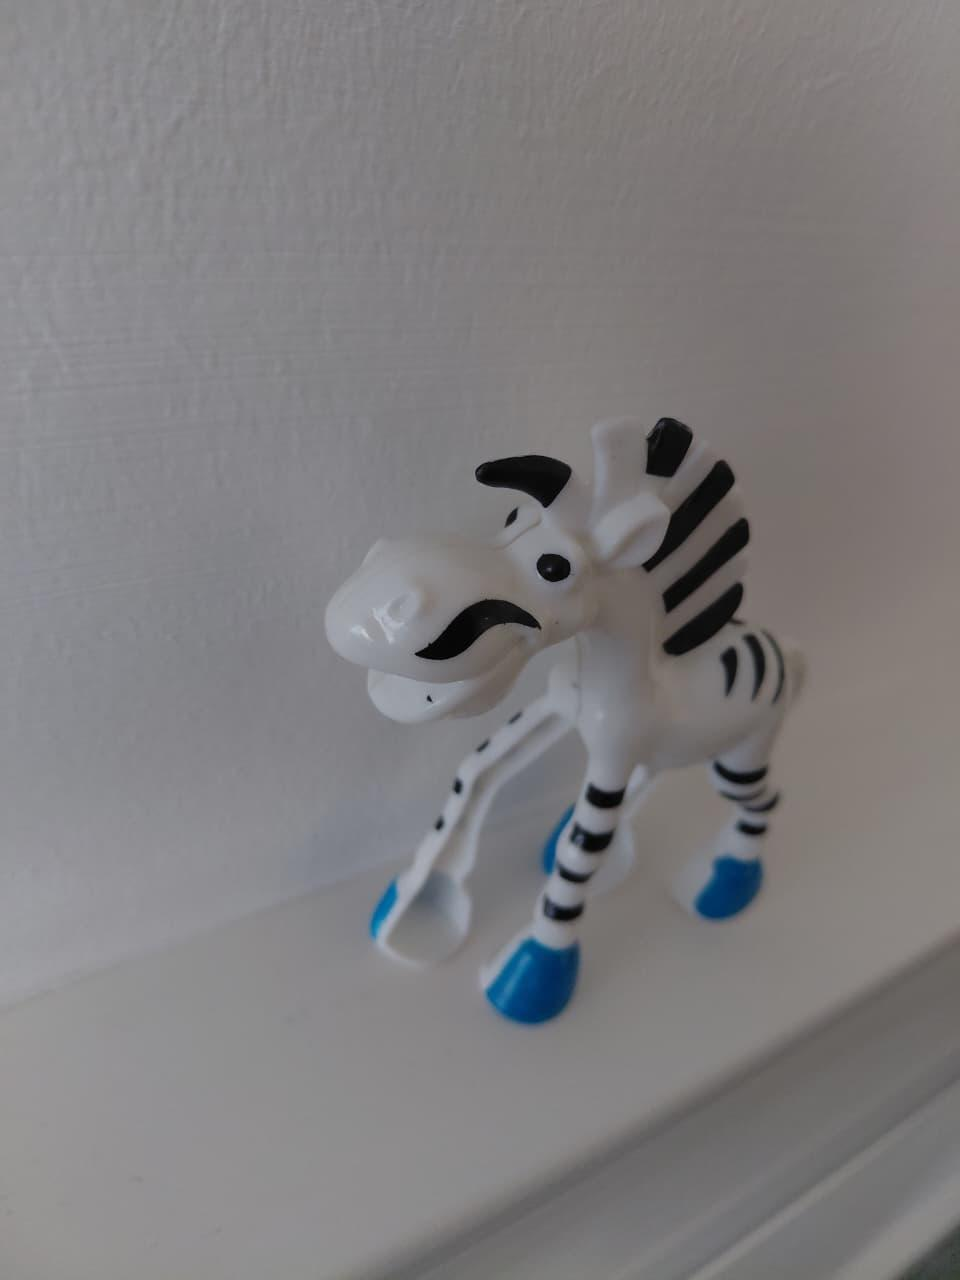zebra: (225, 280, 930, 1139)
